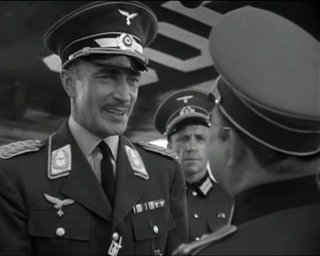face: (86, 63, 141, 134), (174, 129, 207, 172)
mcu: (1, 1, 320, 256)
ots: (170, 5, 320, 256)
person: (1, 1, 191, 256), (153, 89, 233, 243)
